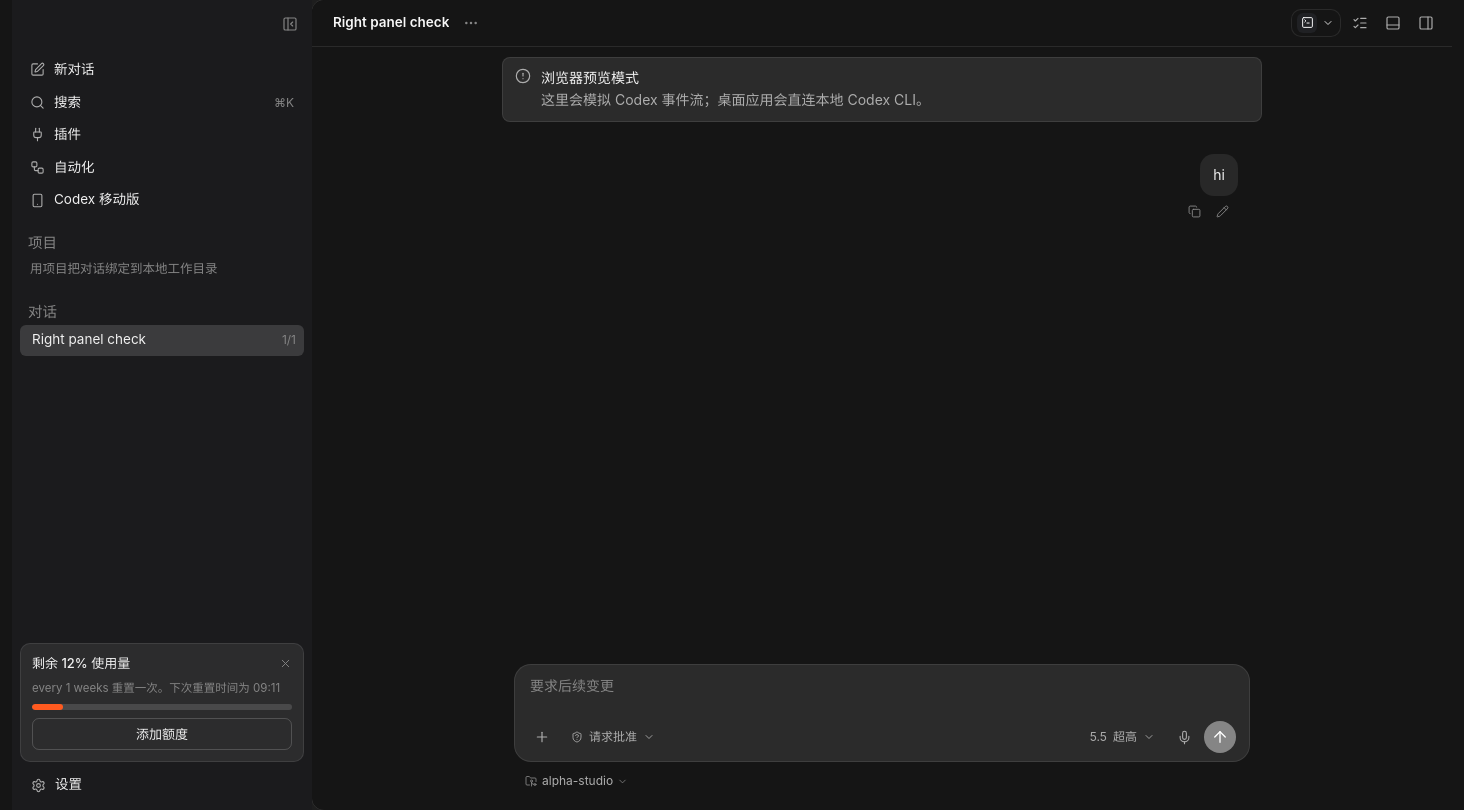
Test: right feature panel › switches from the environment card to the right sidebar in one toolbar click
Click the button named "环境信息".
click(1360, 22)  # box [1345, 8, 1374, 37]
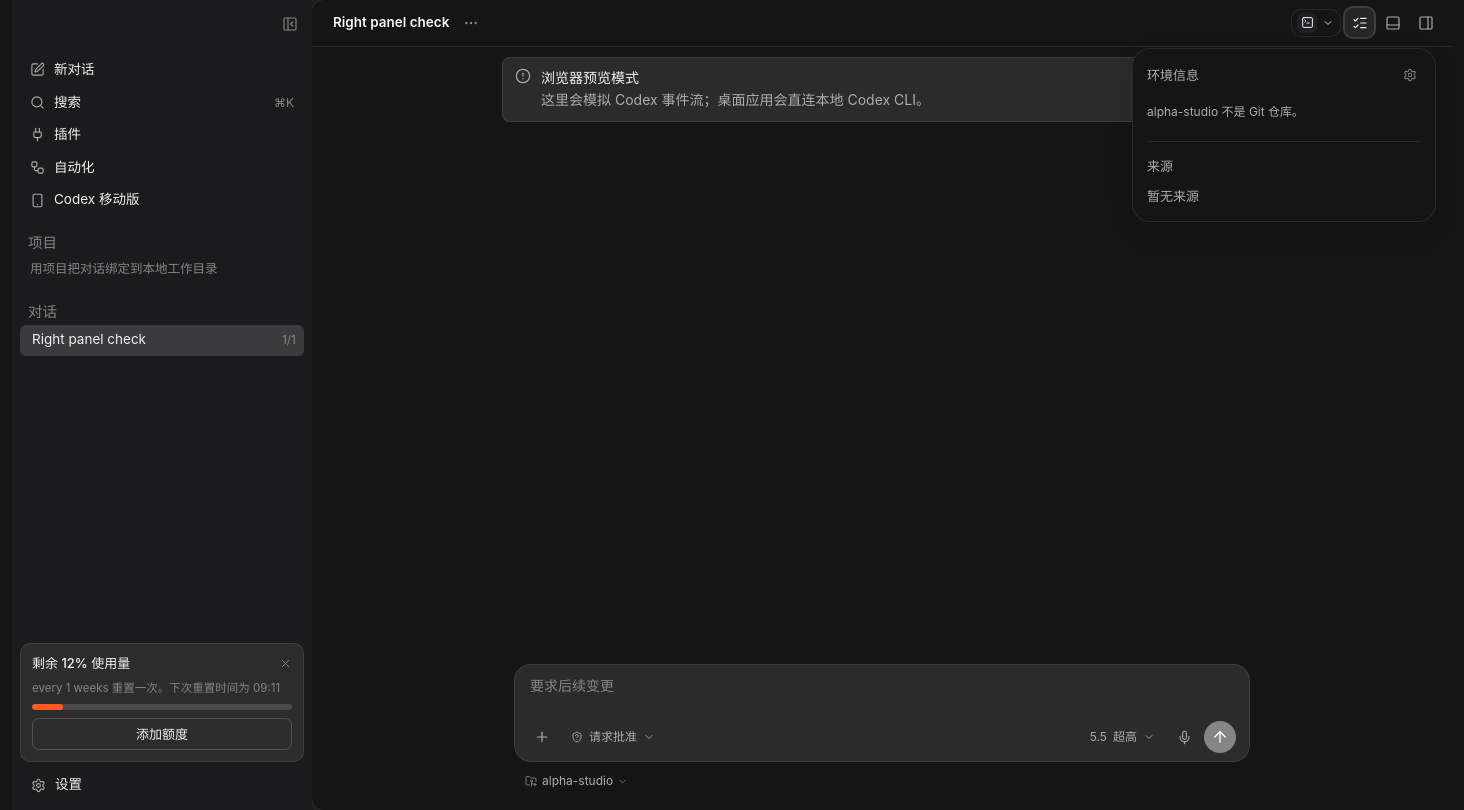
Now the menu with class "environment-menu" is shown, box [1132, 48, 1436, 222]
Click the button named "打开侧边栏".
click(1426, 22)  # box [1411, 8, 1440, 37]
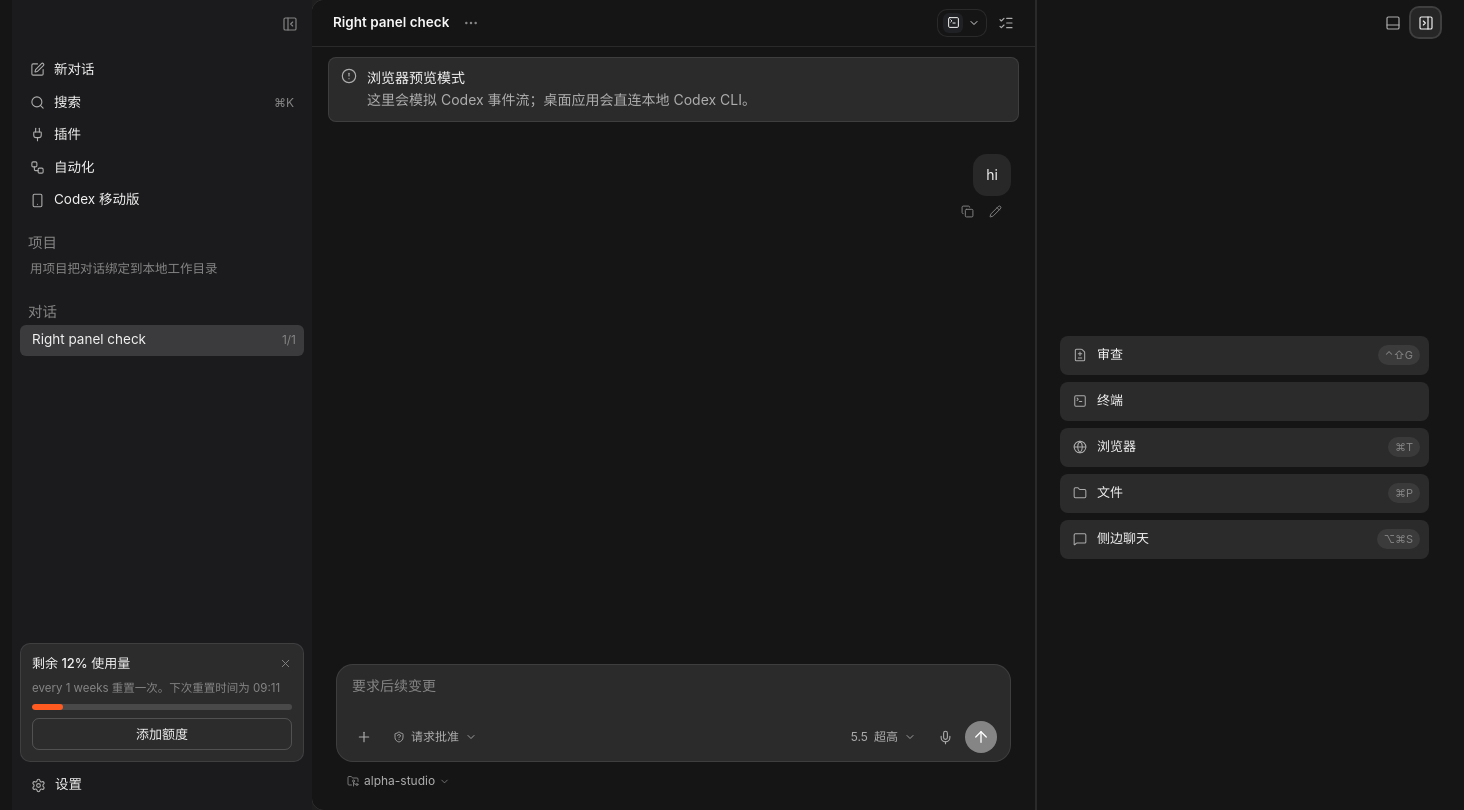
Now the menu with class "environment-menu" is gone
Now the element with class "features-panel" is shown, box [1037, 0, 1452, 809]
